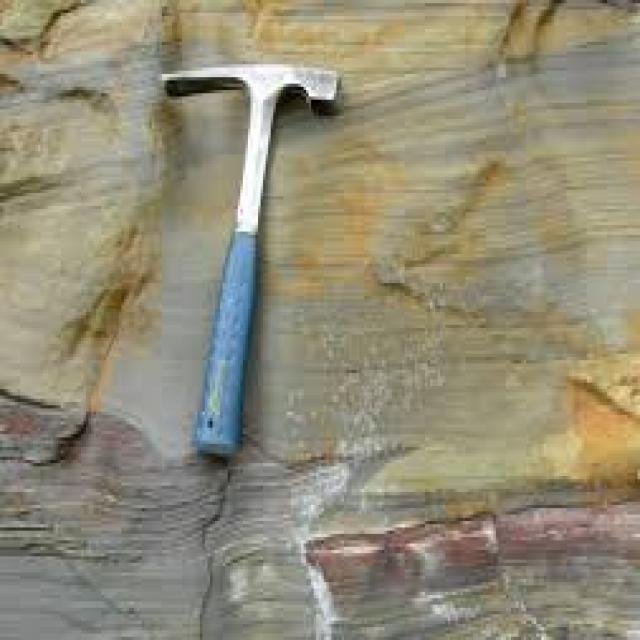hammer: (156, 51, 357, 473)
